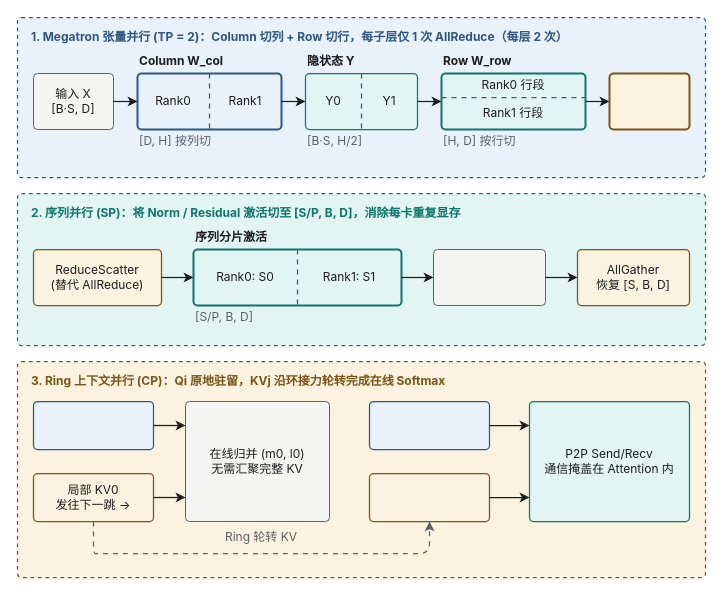
Some shapes in this 724 by 596 pixel diagram are drawn without their labels. Each missing label, with the centre of its shape:
"AllReduce (+)" belongs at [649,101].
"Rank 0 · Q0 [S/P, Hq, d]" belongs at [93,425].
"Rank 1 · Q1 [S/P, Hq, d]" belongs at [429,425].
"局部 KV1 <- 接收对端 KV" belongs at [429,497].
"局部 RMSNorm + 残差累加" belongs at [489,277].
